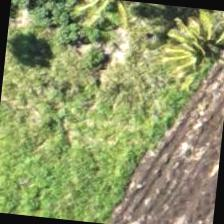Kelapa_Sawit: (143, 3, 223, 98)
